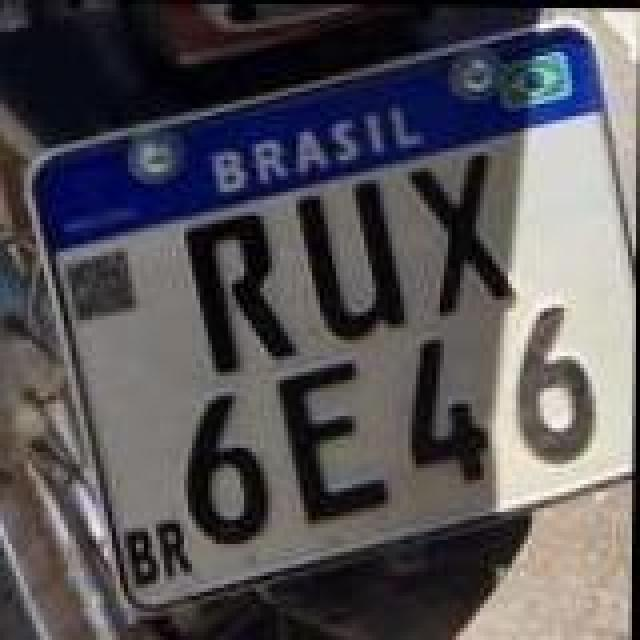4: (408, 336, 496, 492)
6: (512, 298, 600, 466), (184, 388, 276, 544)
E: (272, 356, 396, 532)
R: (176, 208, 304, 380)
U: (294, 176, 414, 344)
X: (400, 150, 524, 326)
